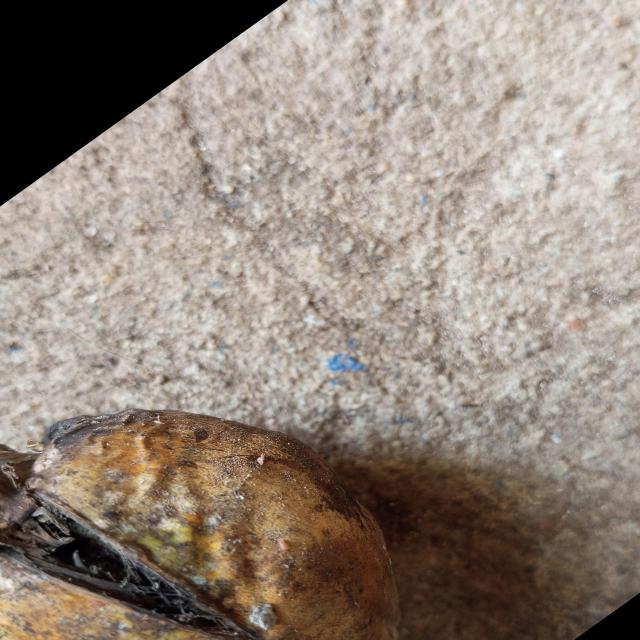damaged: (0, 410, 399, 640)
